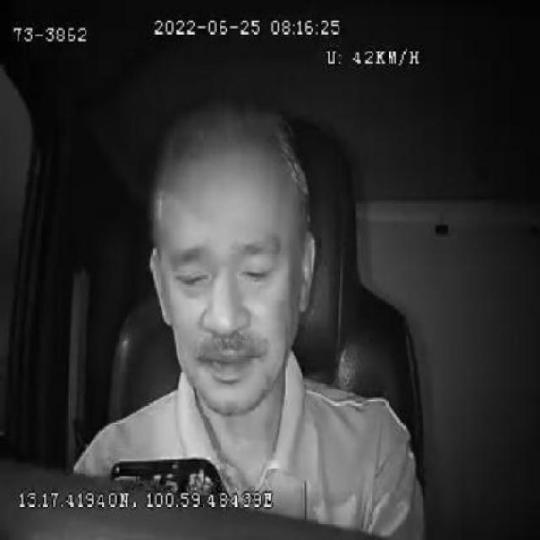phone: (110, 456, 226, 492)
